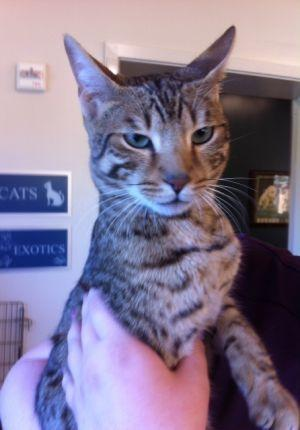bengal: (48, 15, 250, 222)
